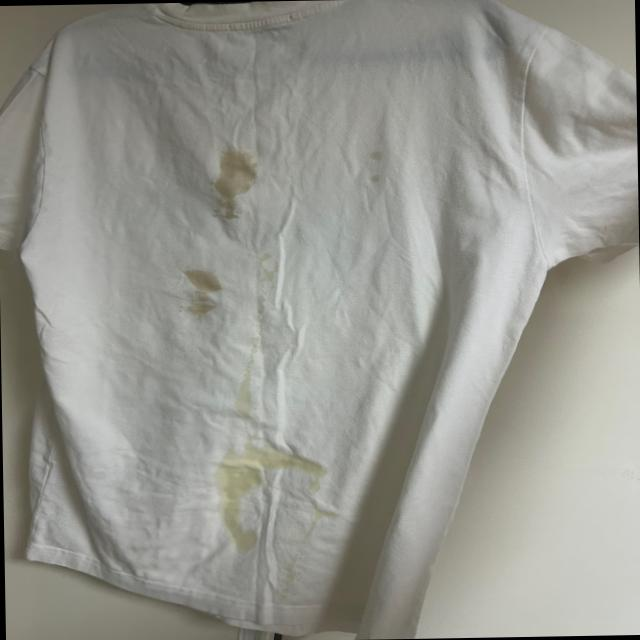stain: (228, 436, 326, 482), (196, 142, 261, 206), (170, 255, 227, 322), (216, 508, 276, 562), (204, 462, 258, 514), (294, 488, 348, 528), (364, 149, 410, 193), (212, 202, 250, 229), (254, 253, 282, 289), (236, 362, 258, 406)
